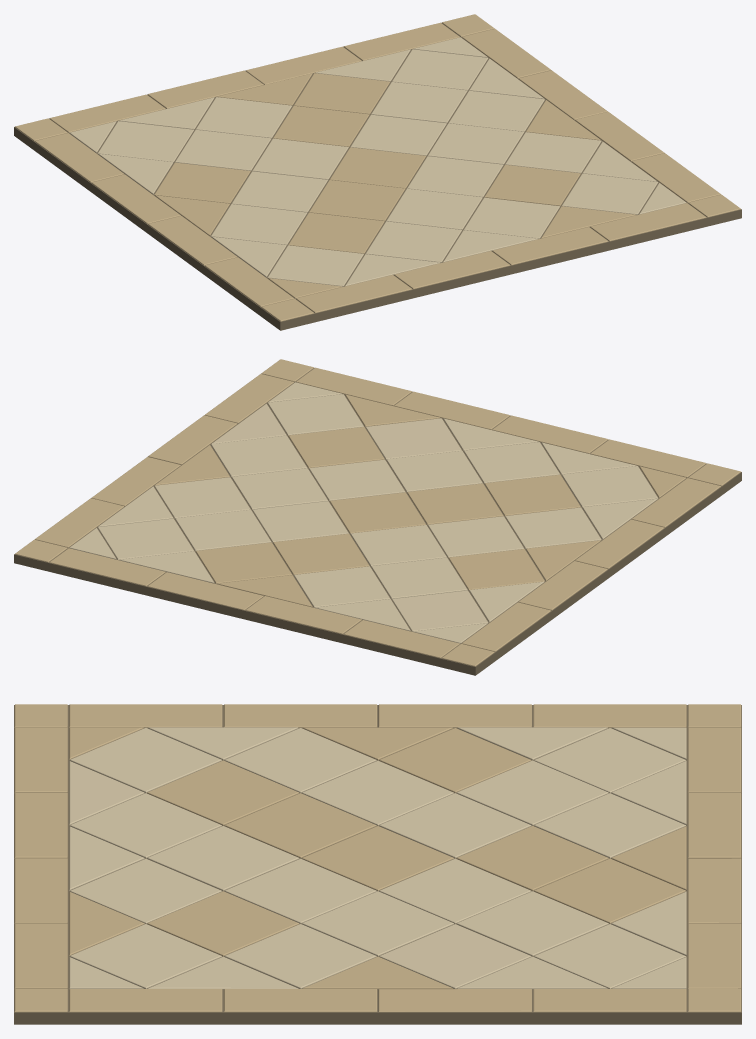
3 renders of one model, top to bottom at view 1: azimuth 30°, elevation 25°; view 2: azimuth 150°, elevation 25°; view 3: azimuth 270°, elevation 25°, orthographic. The views are drawn at different scales.
Parts seen in each view (by area): view 1: Mesh_Slabs_Limestone, Mesh_Slabs_Travertine, Mesh_JointBed; view 2: Mesh_Slabs_Limestone, Mesh_Slabs_Travertine, Mesh_JointBed; view 3: Mesh_Slabs_Limestone, Mesh_Slabs_Travertine, Mesh_JointBed.
Boxes of the visible parts, box(x1,y1,x2,y2) form: Mesh_Slabs_Limestone: box(69, 37, 686, 286); Mesh_Slabs_Travertine: box(15, 14, 740, 321); Mesh_JointBed: box(14, 23, 741, 330); Mesh_Slabs_Limestone: box(69, 382, 658, 643); Mesh_Slabs_Travertine: box(15, 359, 740, 666); Mesh_JointBed: box(14, 368, 741, 675); Mesh_Slabs_Limestone: box(69, 727, 686, 989); Mesh_Slabs_Travertine: box(14, 704, 741, 1012); Mesh_JointBed: box(14, 705, 741, 1024).
Bounding box in the file's own units: 4 × 0.08 × 4.
